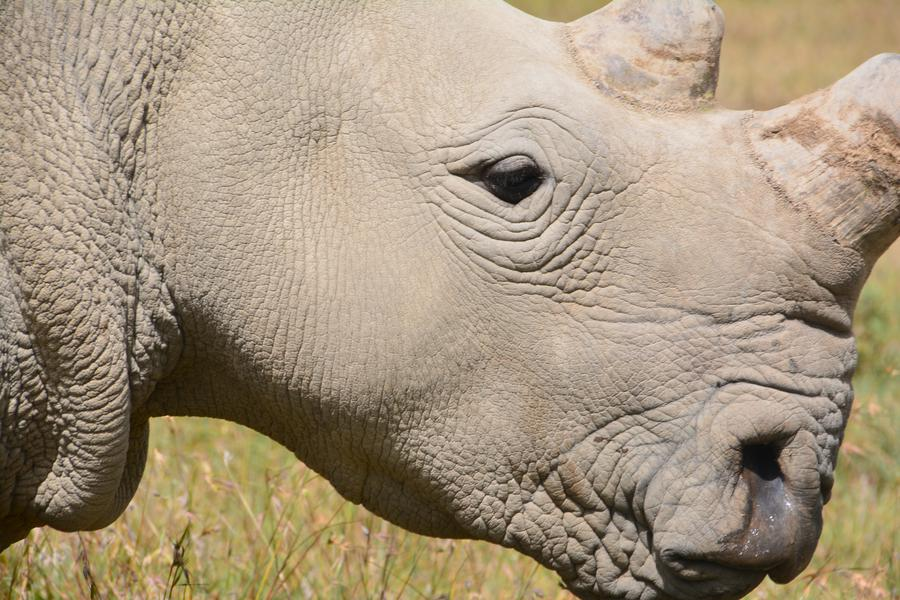rhino: (13, 10, 850, 590)
